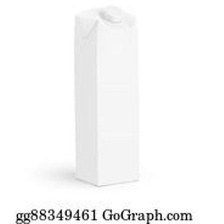carton: (66, 4, 147, 188)
